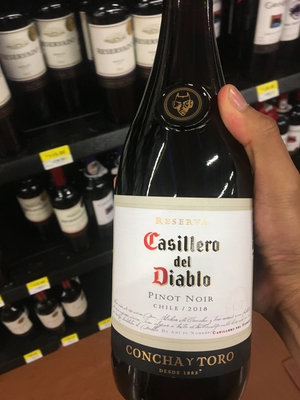casillero del diablo pinot noir: (92, 18, 270, 400)
